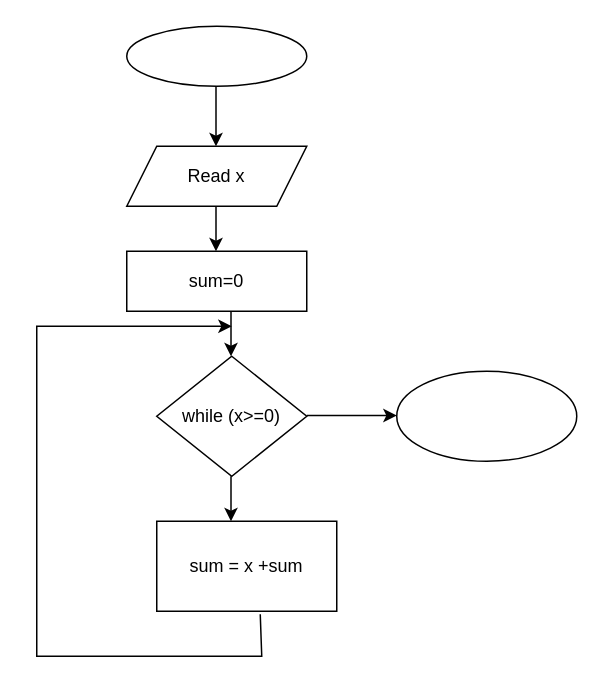
The diagram is 603 pixels wide and 695 high, and some of its shapes have lost their labels. The centre of each missing label's shape, as x and y in pixels:
"End" goes at (x=486, y=415).
"Start" goes at (x=216, y=55).
